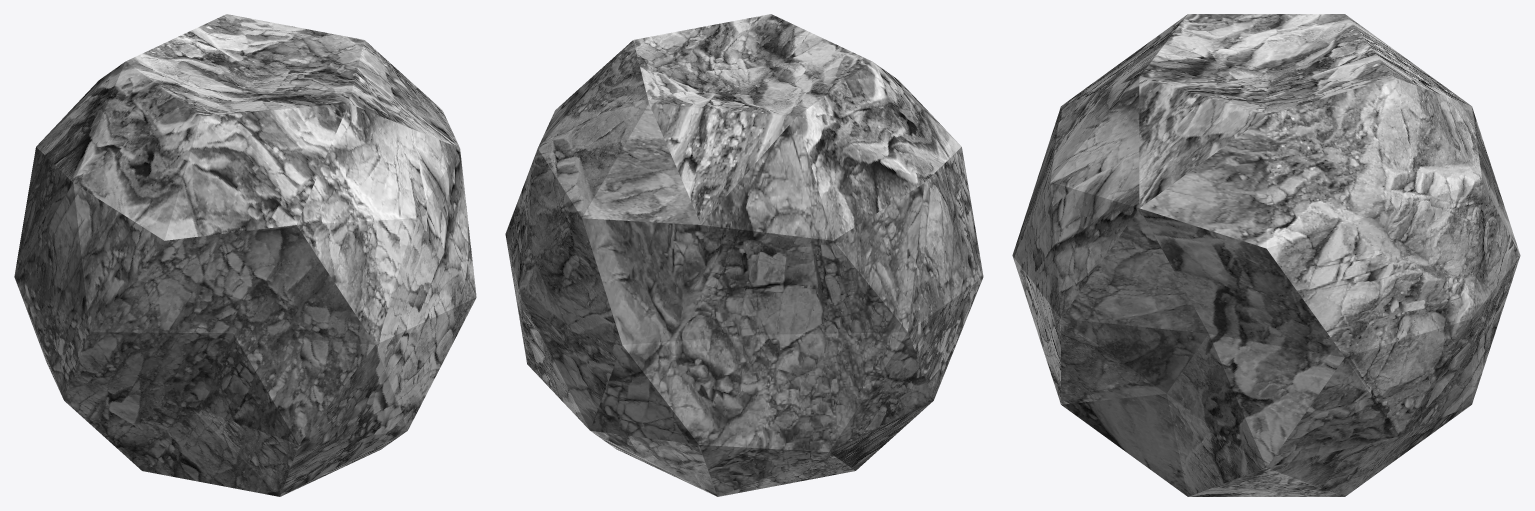
Rendered from planet.fbx.
The picture shows the model from 3 angles, left to right: view 1: azimuth 30°, elevation 25°; view 2: azimuth 150°, elevation 25°; view 3: azimuth 270°, elevation 25°; orthographic projection. The views are drawn at different scales.
Visible parts, largest first — view 1: Icosphere; view 2: Icosphere; view 3: Icosphere.
Boxes of the visible parts, left/top/right/bottom form: Icosphere: left=14, top=14, right=476, bottom=496; Icosphere: left=505, top=14, right=983, bottom=496; Icosphere: left=1012, top=14, right=1520, bottom=496.
Size of the model in its own units: 249 by 242 by 262.
